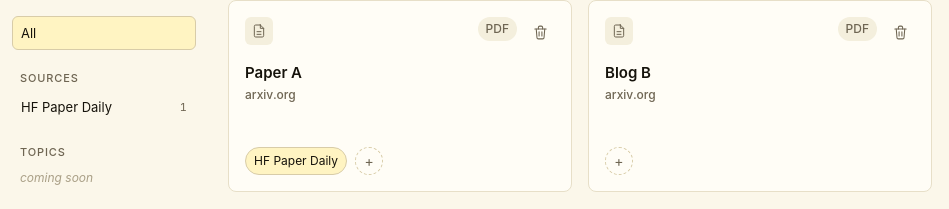
Test: LibraryList › filters by a Source entry
Click the button "HF Paper Daily 1": (104, 107) [12,90,196,124]
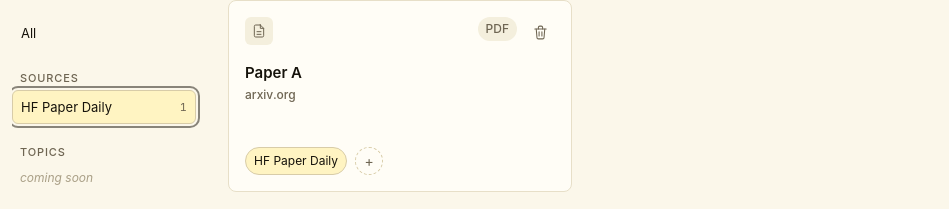
Expected: the link "Paper A" is shown, [245,63,302,82]
Now the link "Blog B" is gone
